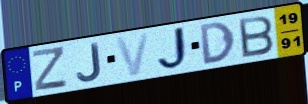B: (236, 14, 276, 60)
D: (197, 20, 237, 67)
J: (156, 24, 193, 73), (75, 41, 103, 83)
V: (113, 31, 153, 78)
Z: (31, 44, 69, 92)
